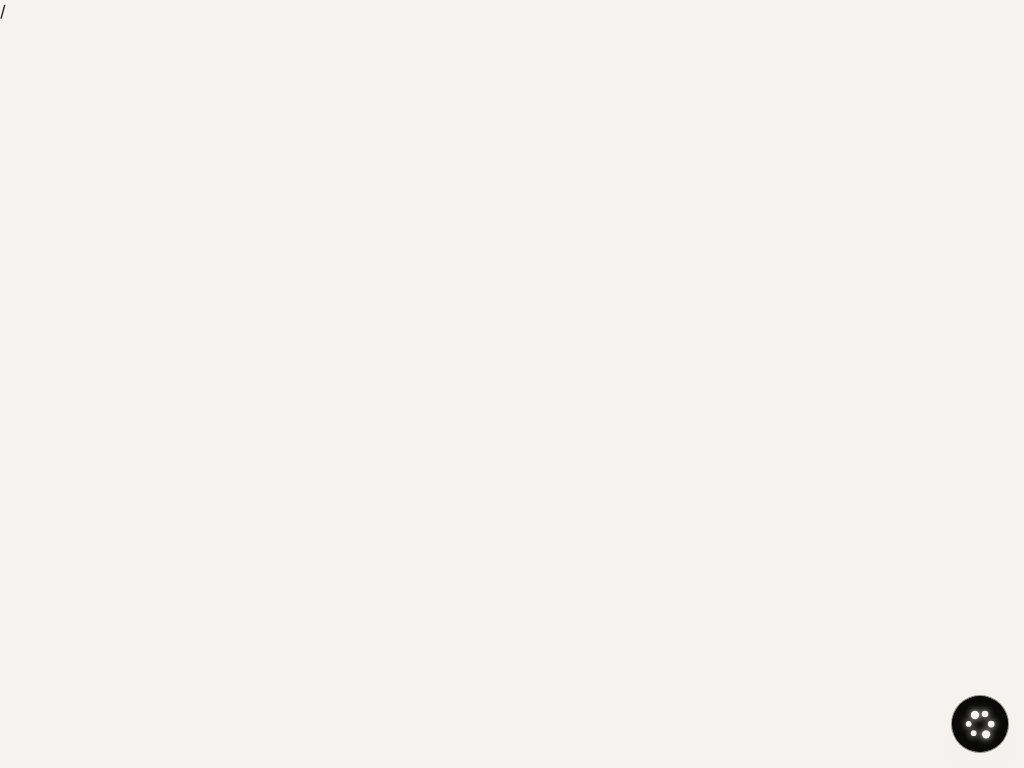
Test: Asistente › se abre con sugerencias según el rol y saluda por el nombre
Click the button named "Abrir el asistente" at (980, 724), box [952,696,1008,752]
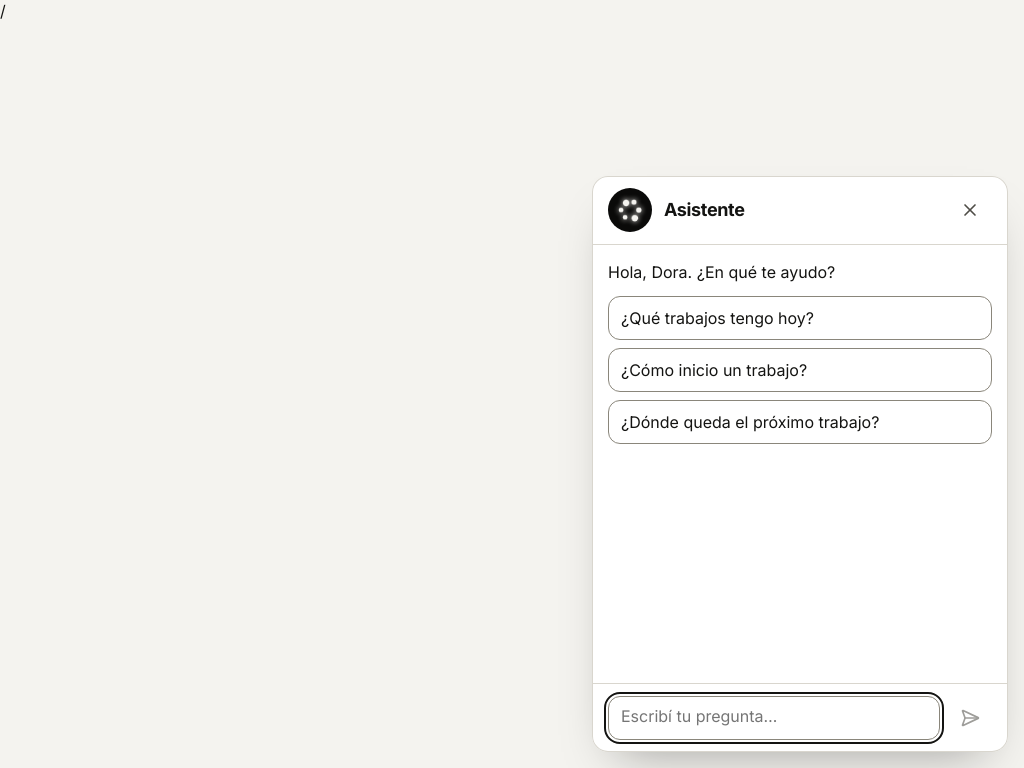
Now the dialog named "Asistente de Andamio" is shown, box [592,176,1008,752]
Now the text "Hola, Dora. ¿En qué te ayudo?" is shown, box [608,262,835,282]
Now the button "¿Cómo inicio un trabajo?" is shown, box [608,348,992,392]
